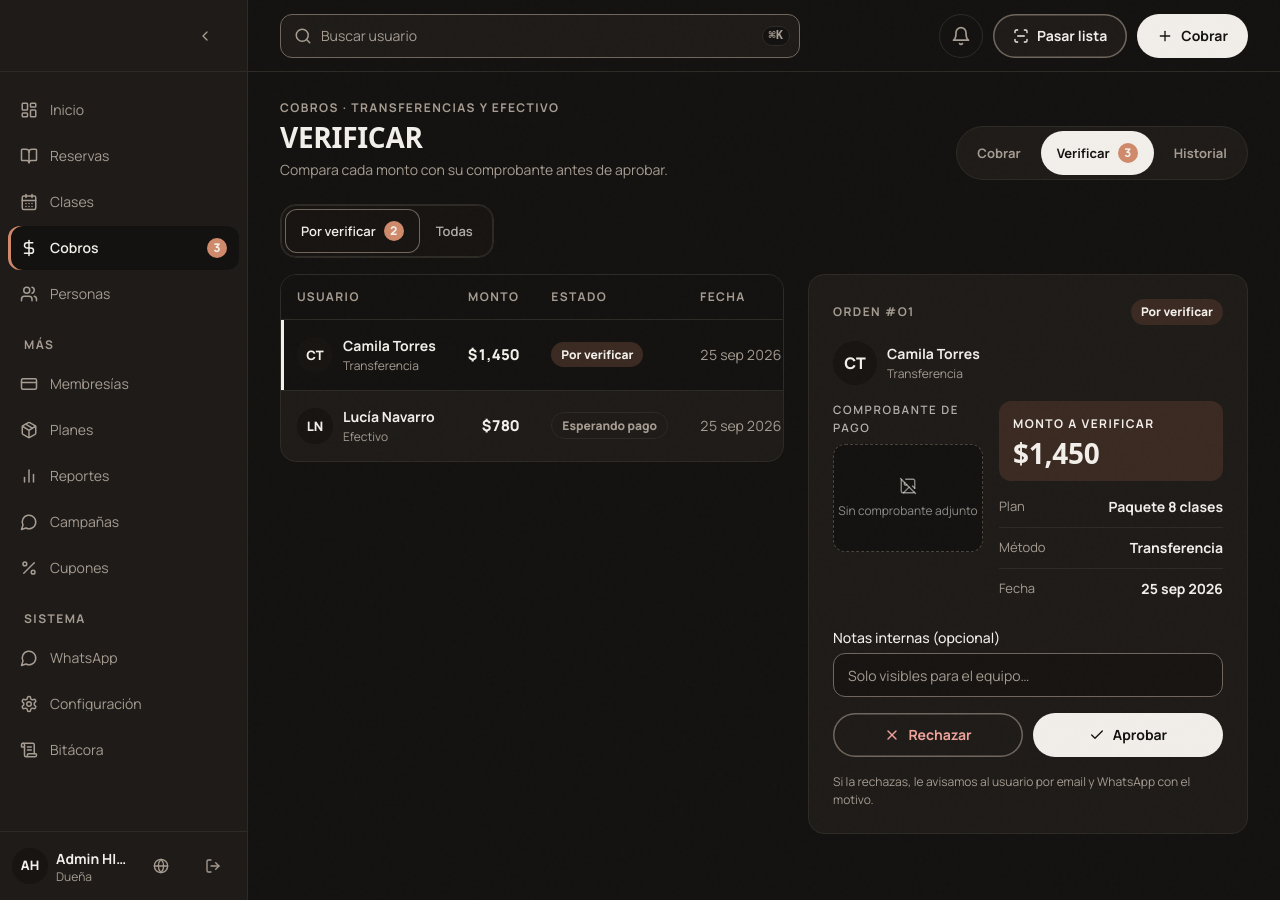
Cobros · Verificar › elegir otra fila cambia el detalle y la pestaña Verificar lleva el contador
Click the text "Lucía Navarro" at [389, 417], box top-left (343, 407), bottom-right (435, 427)
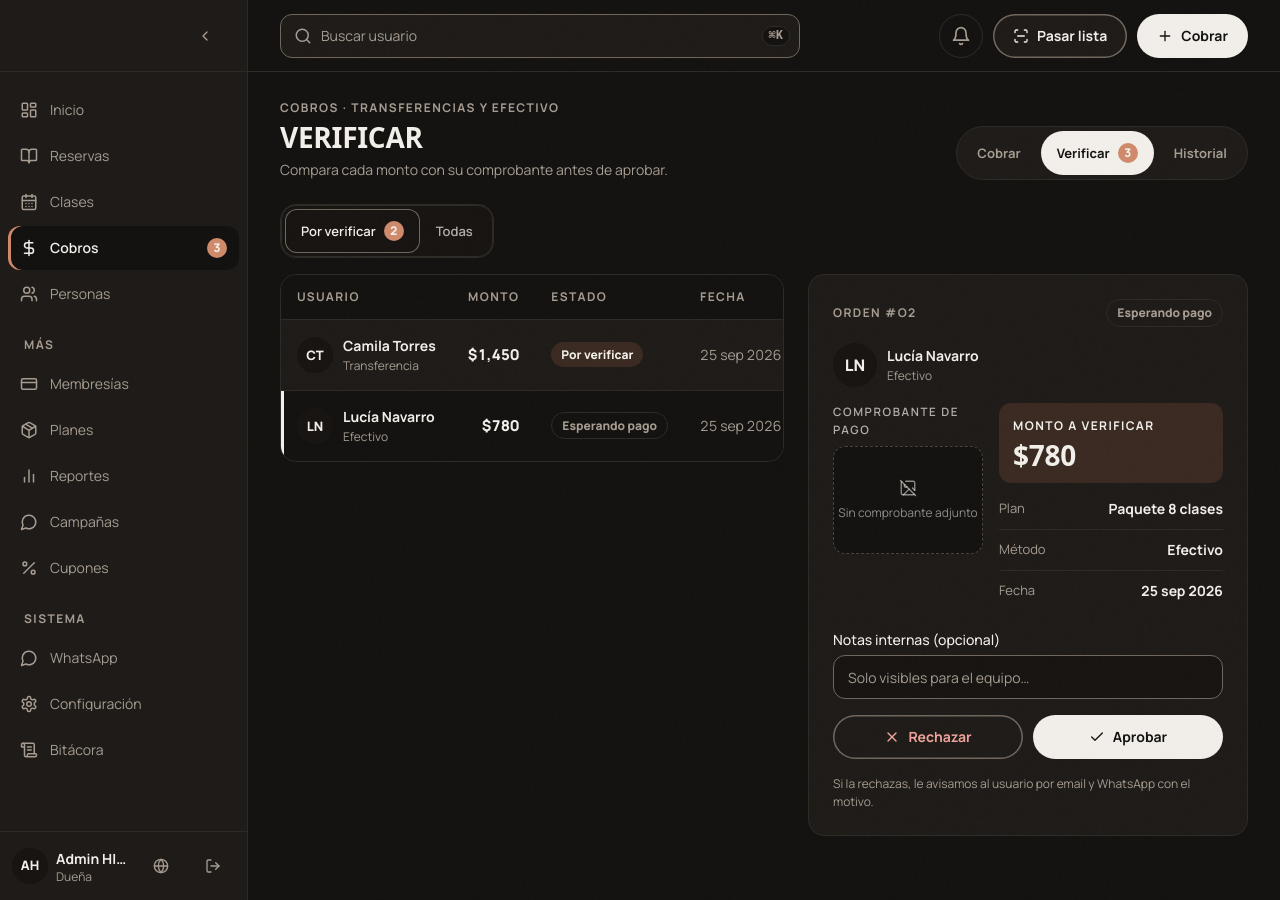
Expected: the text "3" is shown, top-left (1118, 143), bottom-right (1138, 163)
Result: the text "$780" is shown at top-left (1013, 436), bottom-right (1076, 474)
